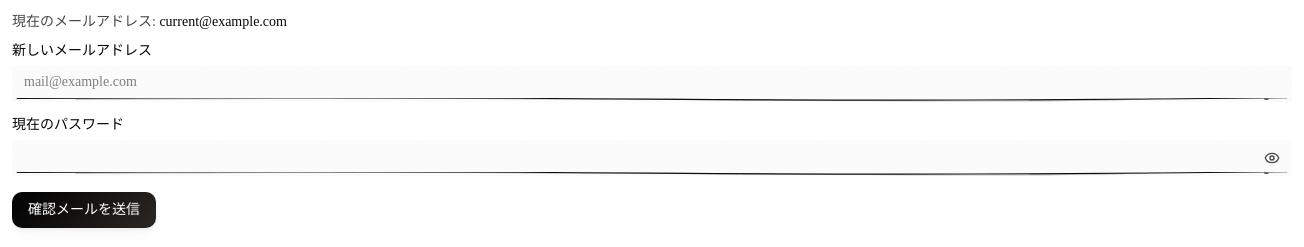
EmailChangeForm › 送信処理 › 送信中は「送信中...」ボタン表示になり二重送信を防止する
In the field labelled "新しいメールアドレス": (652, 84) [12,66,1292,102], type "new@example.com"
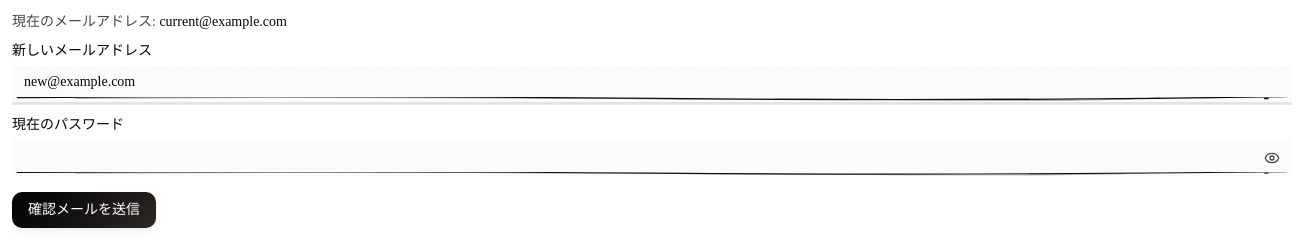
In the password field labelled "現在のパスワード": (652, 158) [12,140,1292,176], type "currentPass1"
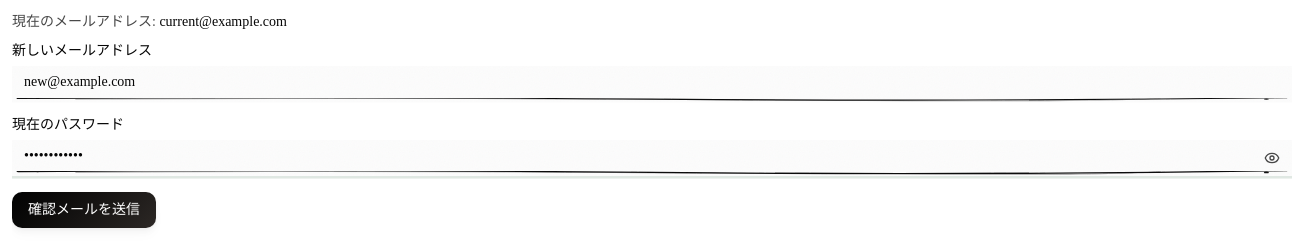
Click the button "確認メールを送信": (84, 210) [12,192,156,228]
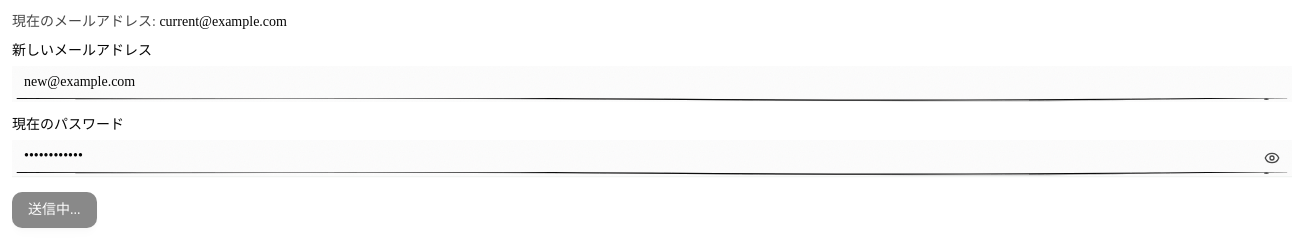
Now the button "送信中..." is disabled, box [12,192,96,228]
